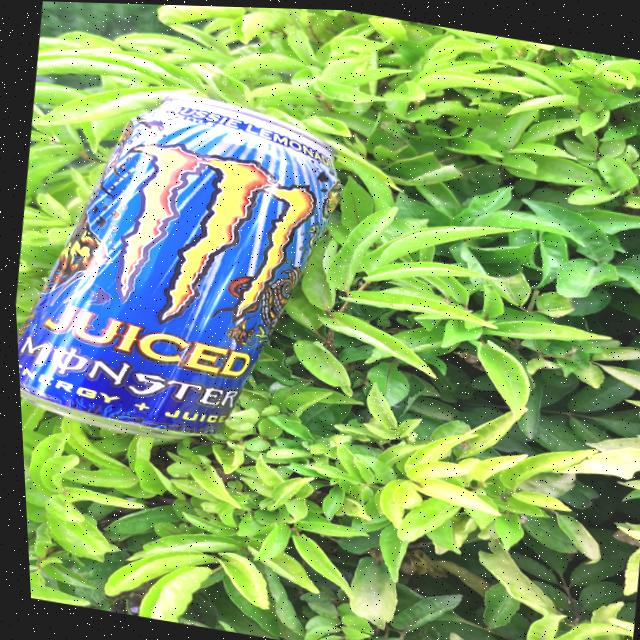Monster Aussie Lemonade: (3, 70, 364, 469)
